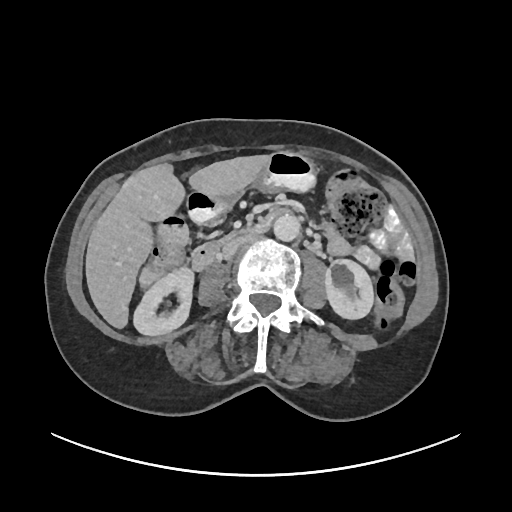Lesion: (328, 263, 357, 293)
